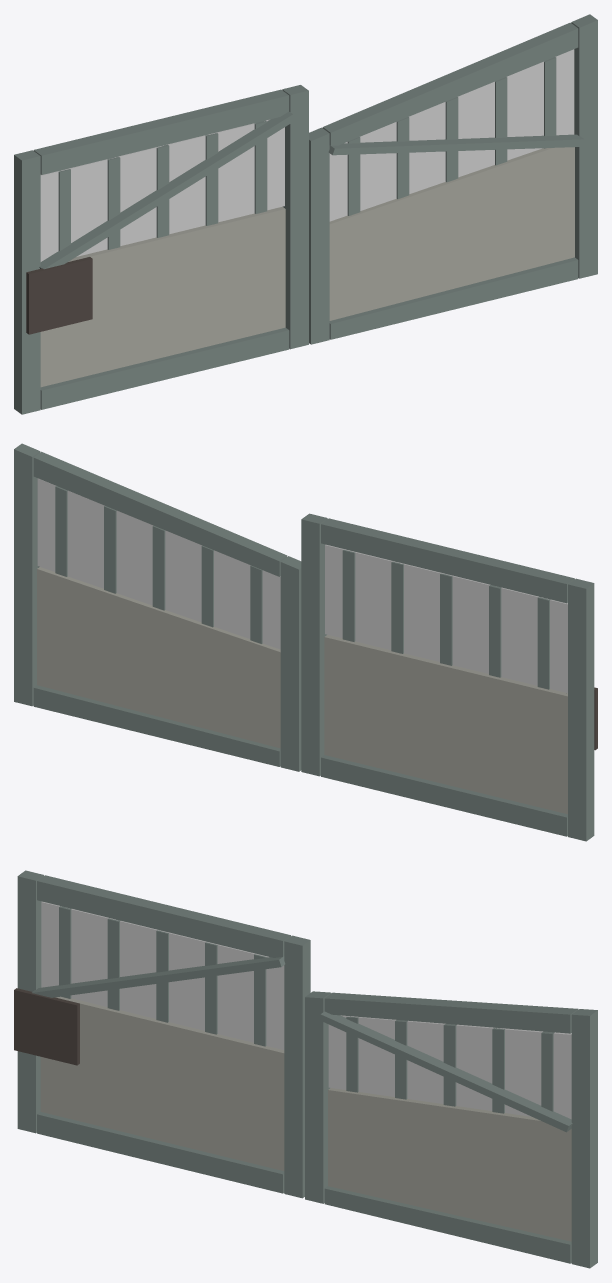
Rendered from SM_PuertaVia_v0_TuboChapa_e1_Danado_LOD1.fbx.
3 renders of one model, top to bottom at view 1: azimuth 30°, elevation 25°; view 2: azimuth 150°, elevation 25°; view 3: azimuth 330°, elevation 25°, orthographic.
Visible parts, largest first — view 1: Hoja_O, Hoja_E; view 2: Hoja_O, Hoja_E; view 3: Hoja_O, Hoja_E.
Boxes of the visible parts, <box> form: Hoja_O: <box>14,85,308,414</box>; Hoja_E: <box>309,14,597,344</box>; Hoja_O: <box>301,513,597,841</box>; Hoja_E: <box>14,443,301,771</box>; Hoja_O: <box>14,870,310,1198</box>; Hoja_E: <box>305,991,597,1268</box>.
Size of what is drawn, in the model's own units: 4.98 by 2.1 by 0.2.
